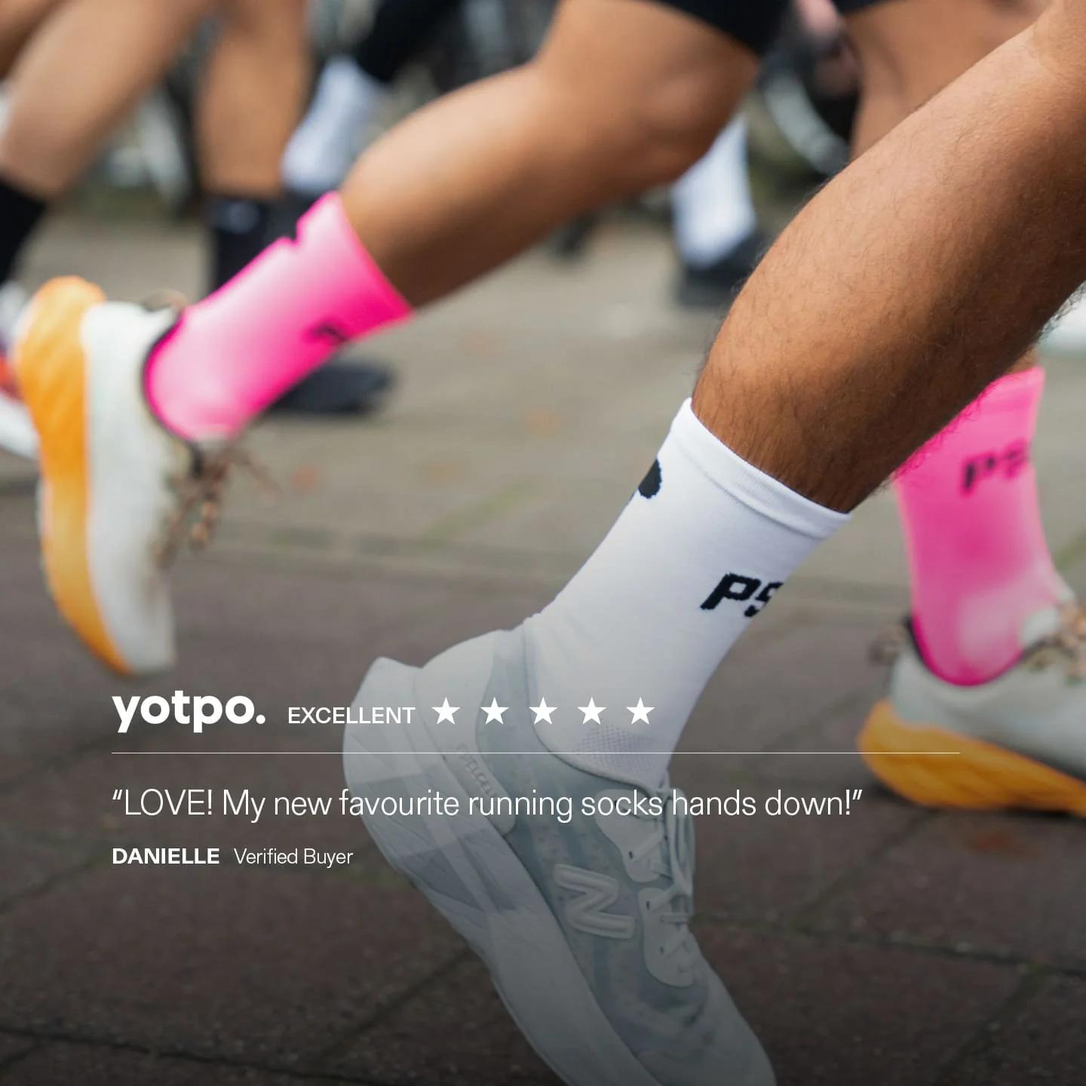NB logo: (547, 851, 642, 950)
sock logo: (505, 419, 844, 737), (189, 196, 413, 436), (892, 376, 1063, 673)
